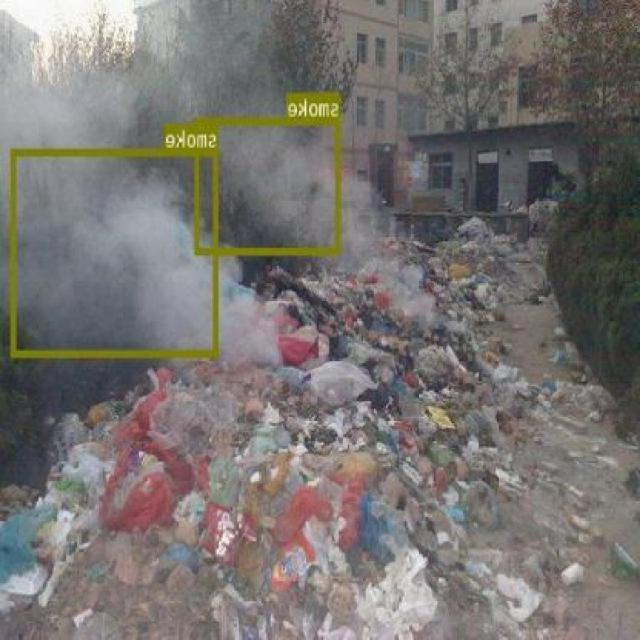Smoke: (12, 148, 220, 357), (25, 17, 254, 135), (196, 116, 342, 252), (220, 296, 272, 363)
